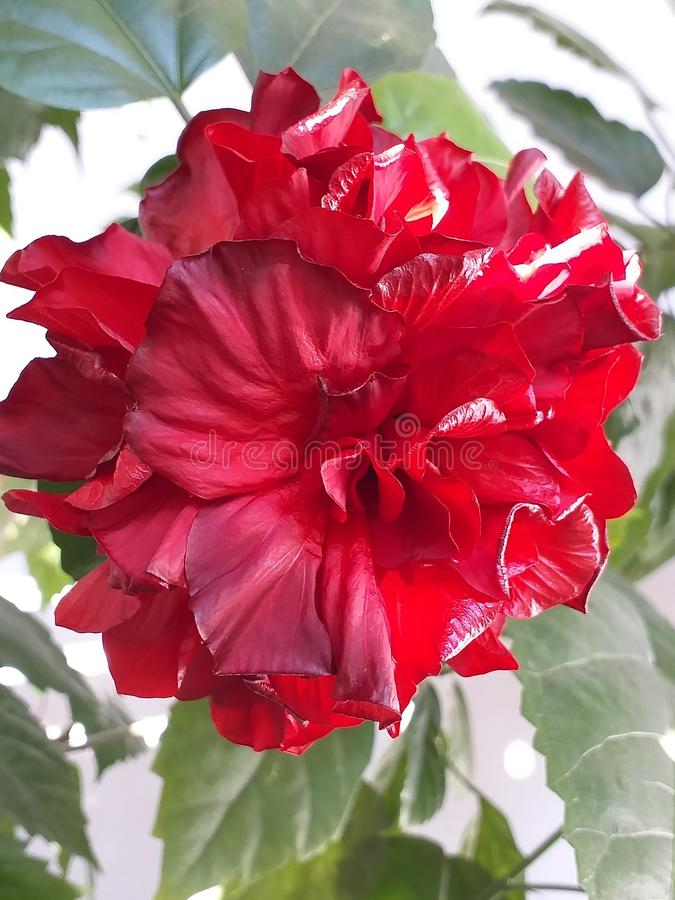Hibiscus: (1, 97, 659, 761)
